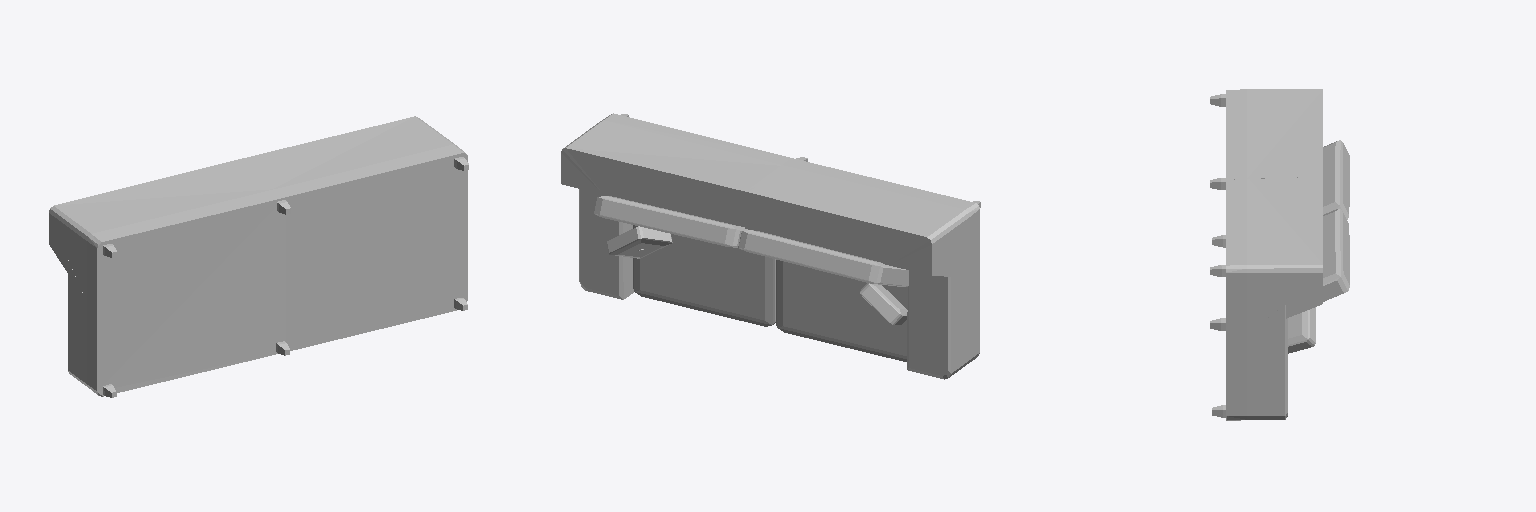
File: couchfixed.obj
The picture shows the model from 3 angles: view 1: azimuth 30°, elevation 25°; view 2: azimuth 150°, elevation 25°; view 3: azimuth 270°, elevation 25°; orthographic projection.
Visible parts, largest first — view 1: 3_Mesh; view 2: 3_Mesh; view 3: 3_Mesh.
Part boxes in pixels (x1,y1,x2,y2): 3_Mesh: (49,116,468,397); 3_Mesh: (561,113,980,379); 3_Mesh: (1210,89,1349,420).
Size of the model in its own units: 1.57 by 0.6435 by 0.5129.